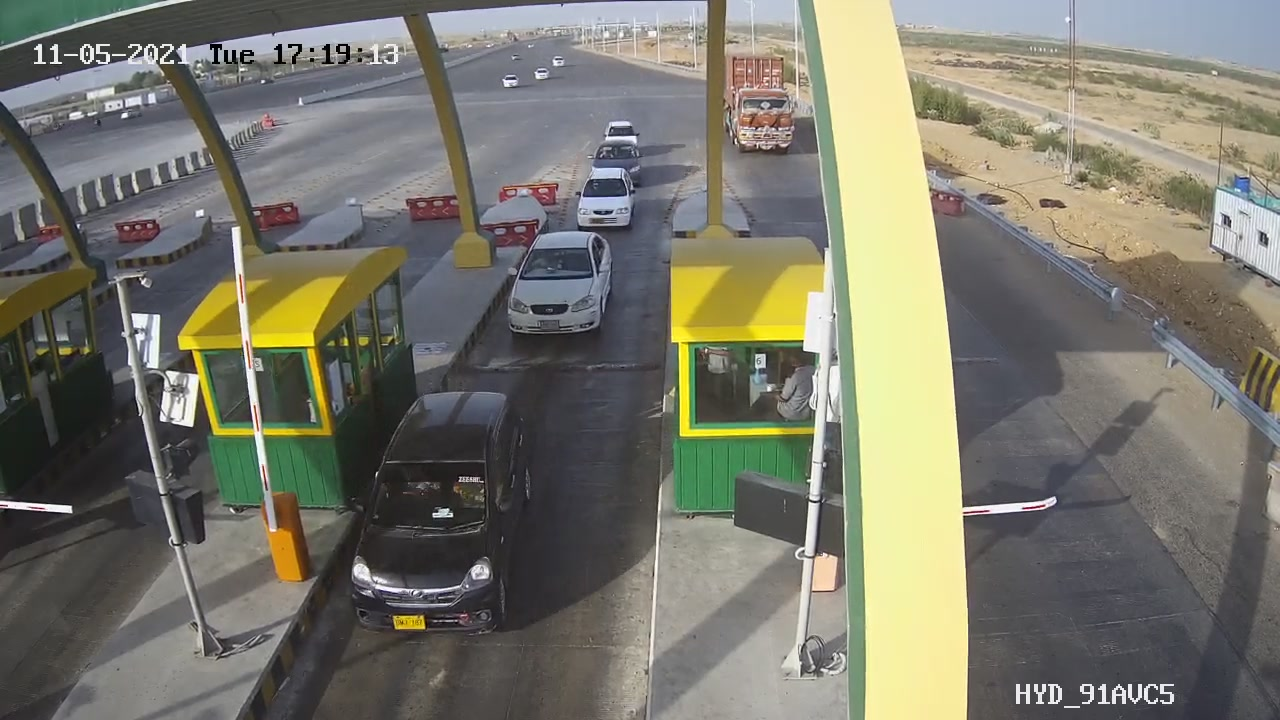F1: (482, 224, 634, 351)
